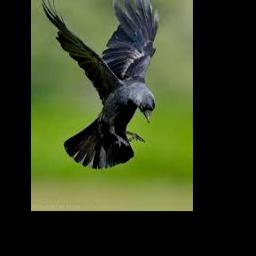Crow: (39, 0, 159, 168)
